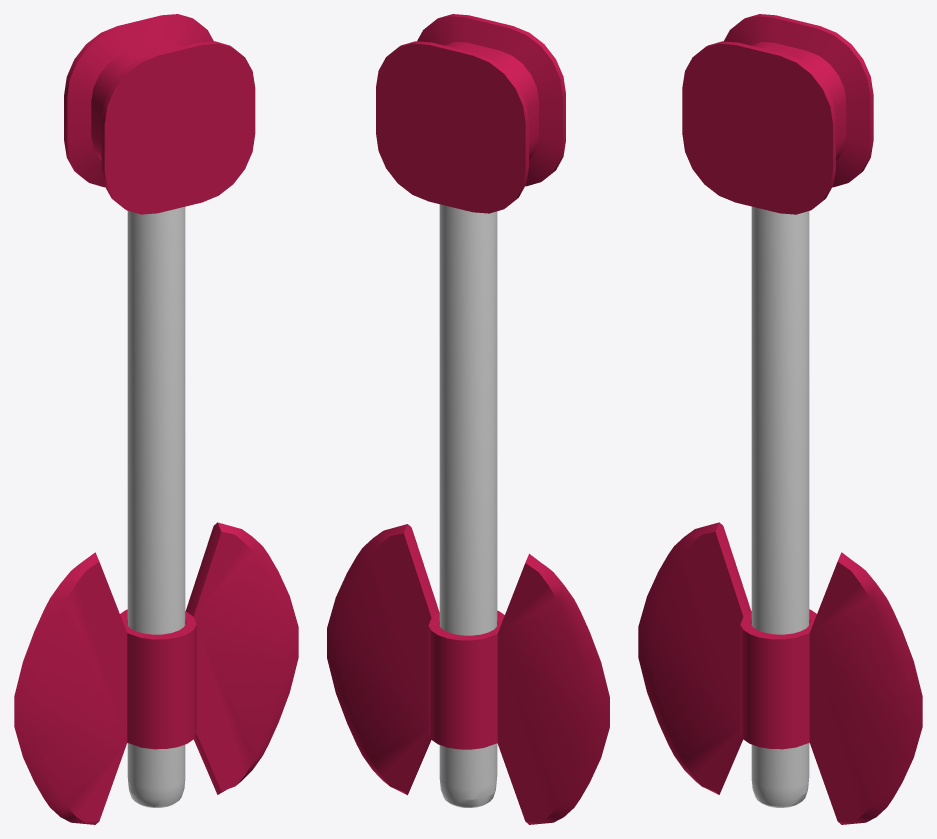
The model's file is obstacle_duzenlenmis_.fbx.
The picture shows the model from 3 angles, left to right: view 1: azimuth 30°, elevation 25°; view 2: azimuth 150°, elevation 25°; view 3: azimuth 330°, elevation 25°; orthographic projection.
Parts seen in each view (by area): view 1: obstacle, Object.001; view 2: obstacle, Object.001; view 3: obstacle, Object.001.
Boxes of the visible parts, x1,y1,x2,y2 form: obstacle: [14, 207, 298, 824]; Object.001: [64, 14, 255, 214]; obstacle: [327, 204, 609, 824]; Object.001: [376, 14, 565, 213]; obstacle: [638, 206, 922, 824]; Object.001: [682, 14, 873, 214].
Size of the model in its own units: 296 by 772 by 79.73.
